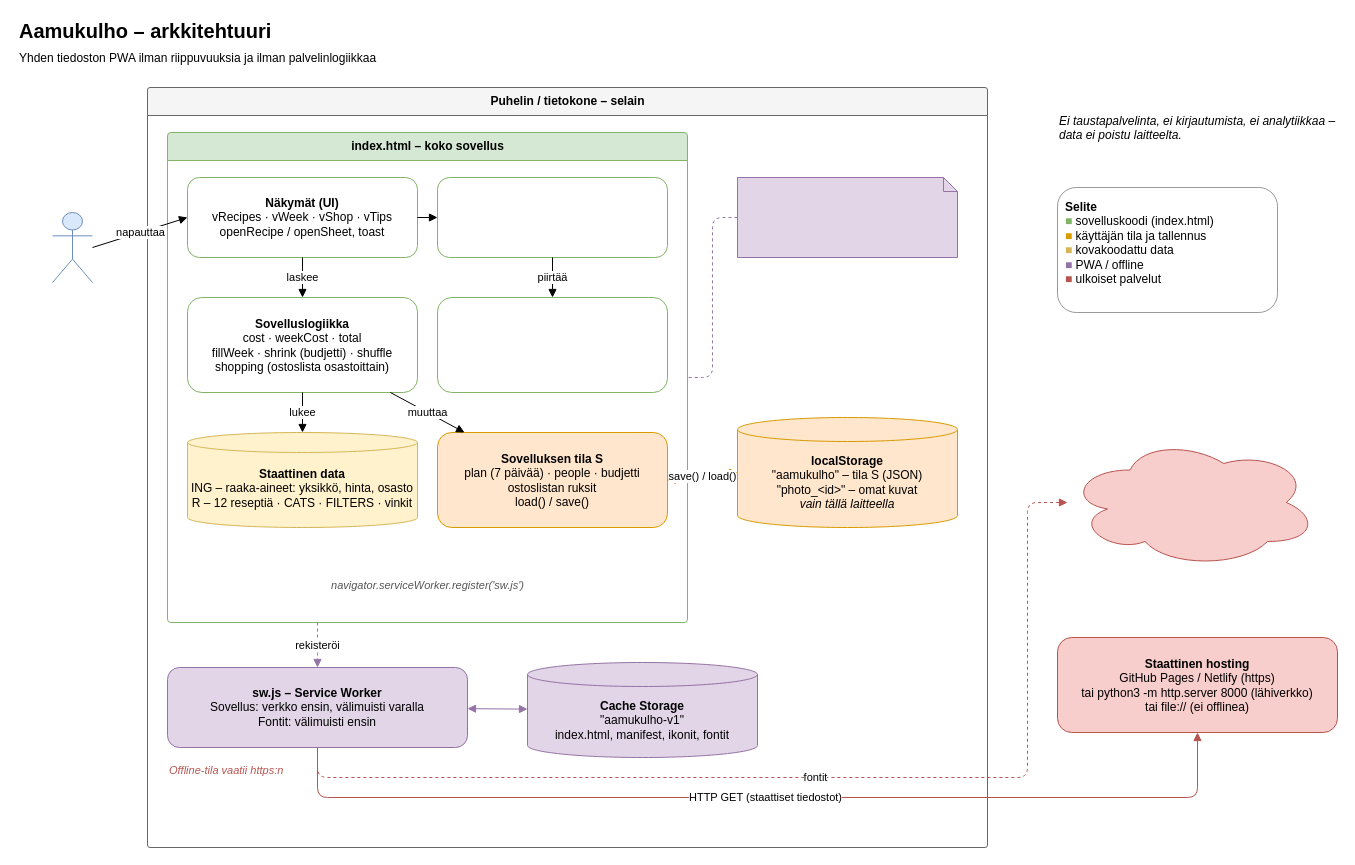
Image size: 1355x865. Some labels were removed from this diagram. Each missing label, with the centre of its shape:
Google Fonts Bricolage Grotesque Atkinson Hyperlegible: the point at 1192,502
Kuvitus art · shape · scatter · rng/hash (generoidut SVG-piirrokset, ARTCACHE): the point at 552,344
Käyttäjä: the point at 72,247
manifest.webmanifest + icons/ kotinäytölle lisääminen: the point at 847,217
Renderöinti render → rerender → wire (tapahtumankäsittelijät): the point at 552,217
